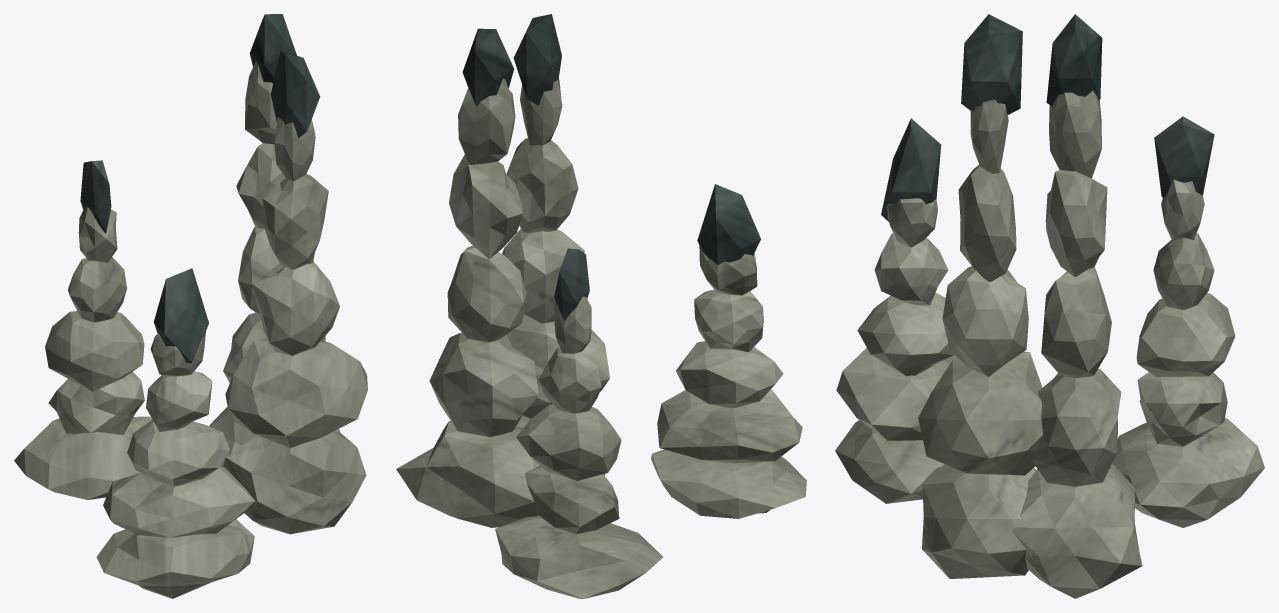
File: 0062_rock_spire_12.glb
3 renders of one model, left to right at view 1: azimuth 30°, elevation 25°; view 2: azimuth 150°, elevation 25°; view 3: azimuth 270°, elevation 25°, orthographic. The views are drawn at different scales.
Visible parts, largest first — view 1: stone_light, stone_dark; view 2: stone_light, stone_dark; view 3: stone_light, stone_dark.
Boxes of the visible parts, x1=… form: stone_light: x1=14, y1=61, x2=367, y2=598; stone_dark: x1=80, y1=14, x2=320, y2=363; stone_light: x1=396, y1=78, x2=806, y2=598; stone_dark: x1=462, y1=14, x2=760, y2=320; stone_light: x1=835, y1=90, x2=1264, y2=598; stone_dark: x1=881, y1=14, x2=1214, y2=221.
Size of the model in its own units: 1.62 by 2.42 by 1.67.
2 materials, 2 textured.
